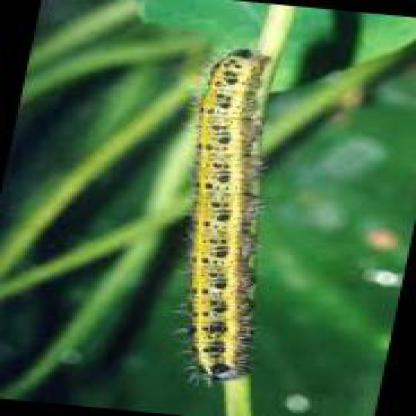pieris: (185, 46, 279, 387)
